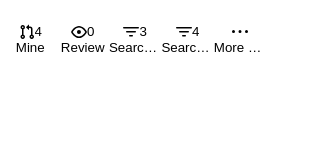
Test: SectionTabs › says in the menu when a section under "More" could not load
Click the button "More sections". click: [240, 39]
box: left=214, top=8, right=266, bottom=70
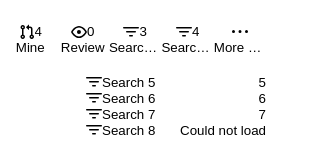
Now the menu item "Search 8 Could not load" is shown, box left=86, top=122, right=266, bottom=138
